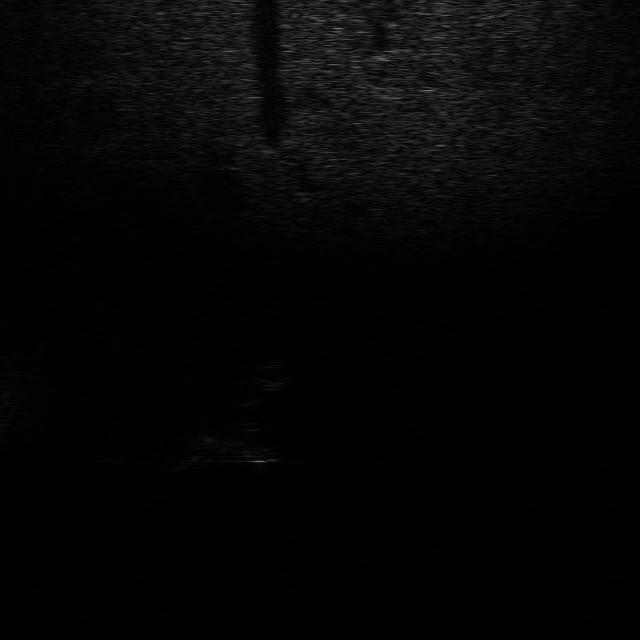ball: (240, 362, 294, 392)
square cage: (168, 431, 246, 469)
tyre: (220, 420, 286, 470)
